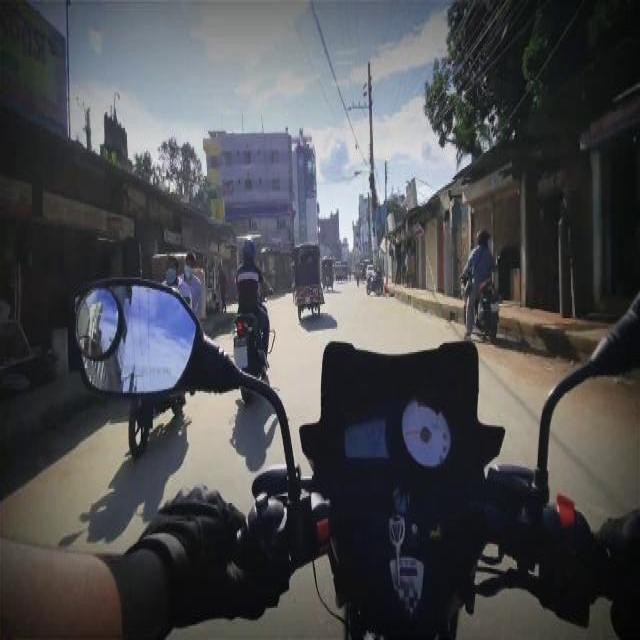10: (69, 278, 639, 632), (128, 255, 200, 456), (229, 238, 275, 407), (458, 232, 502, 340), (365, 268, 381, 294)
Car: (292, 243, 324, 319), (321, 258, 333, 290), (335, 261, 341, 283)
